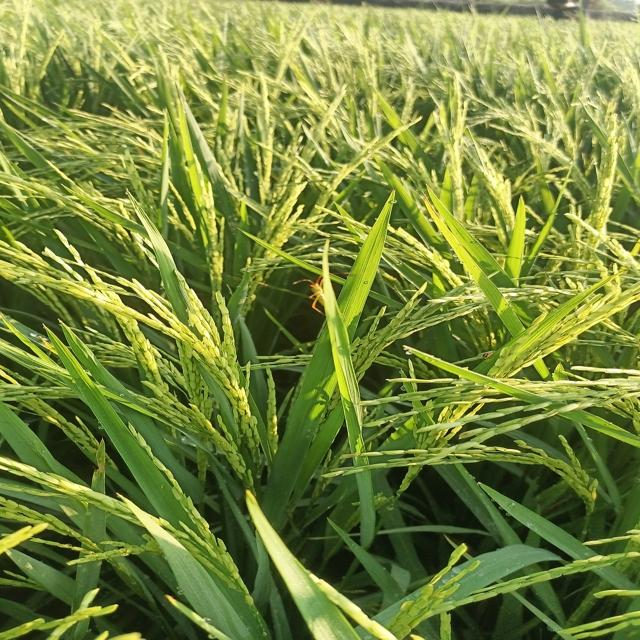green leaf hopper: (290, 269, 336, 318)
